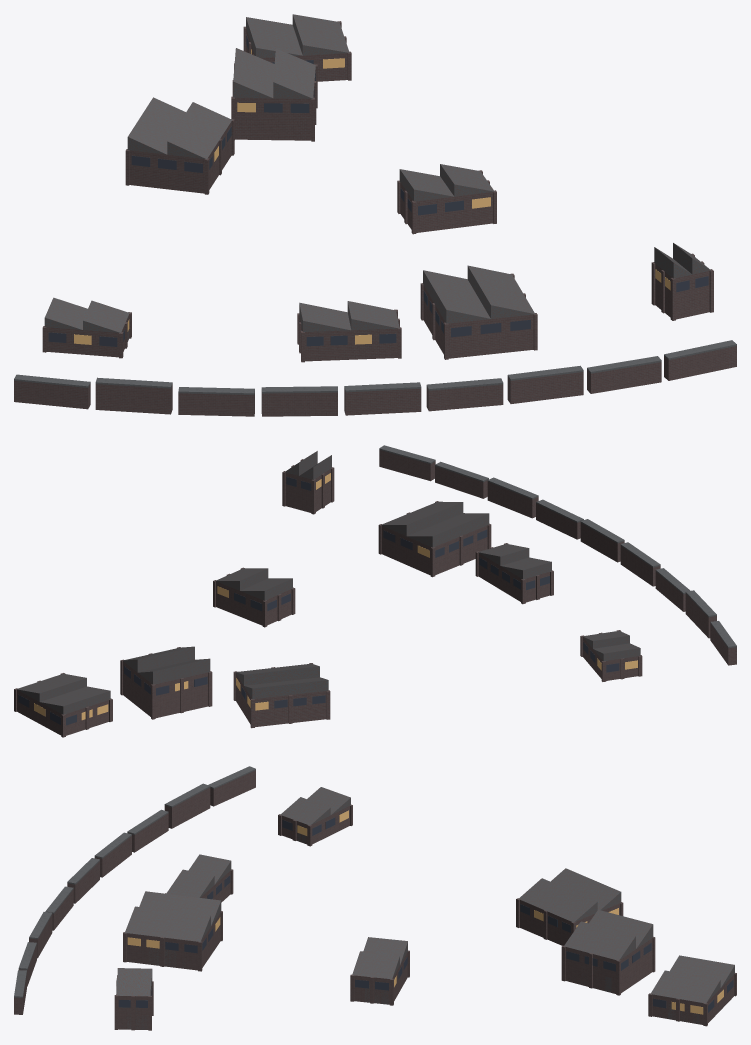
File: SM_City_BaytAlDarb_5.fbx
The picture shows the model from 3 angles, top to bottom: view 1: azimuth 30°, elevation 25°; view 2: azimuth 150°, elevation 25°; view 3: azimuth 270°, elevation 25°; orthographic projection. The views are drawn at different scales.
Parts seen in each view (by area): view 1: SM_City_BaytAlDarb_5; view 2: SM_City_BaytAlDarb_5; view 3: SM_City_BaytAlDarb_5.
Part boxes in pixels (x1,y1,x2,y2): SM_City_BaytAlDarb_5: (14,14,736,416); SM_City_BaytAlDarb_5: (14,445,736,737); SM_City_BaytAlDarb_5: (14,766,736,1030).
Bounding box in the file's own units: 7770 × 698 × 9655.
6 materials, 6 textured.
